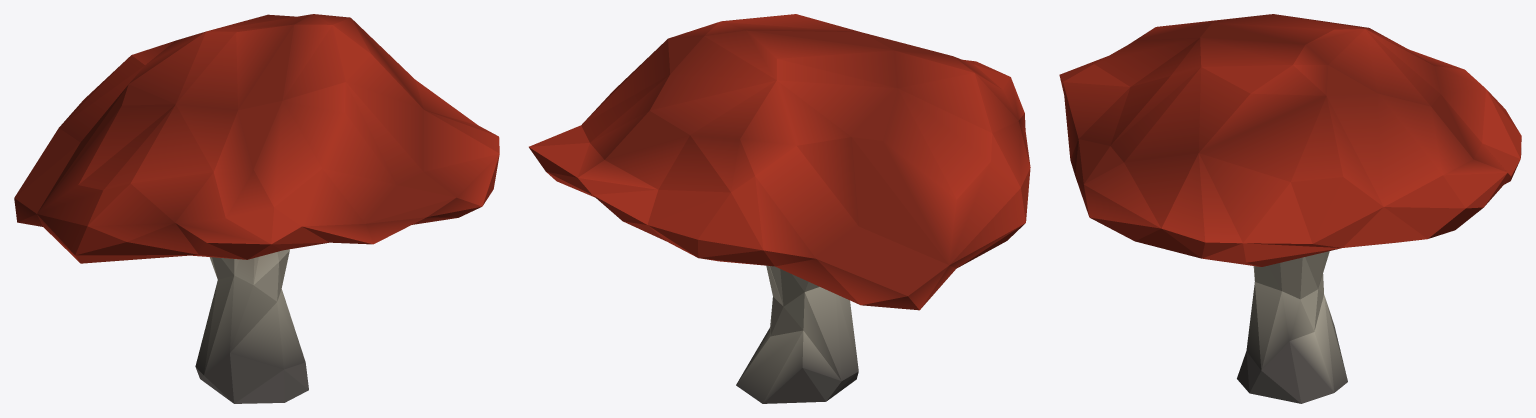
Rendered from Mushroom3.fbx.
3 renders of one model, left to right at view 1: azimuth 30°, elevation 25°; view 2: azimuth 150°, elevation 25°; view 3: azimuth 270°, elevation 25°, orthographic. The views are drawn at different scales.
Visible parts, largest first — view 1: Mushroom3; view 2: Mushroom3; view 3: Mushroom3.
Boxes of the visible parts, x1,y1,x2,y2 form: Mushroom3: (14, 14, 499, 403); Mushroom3: (529, 14, 1030, 403); Mushroom3: (1059, 14, 1521, 403).
Size of the model in its own units: 1170 by 951 by 1120.
